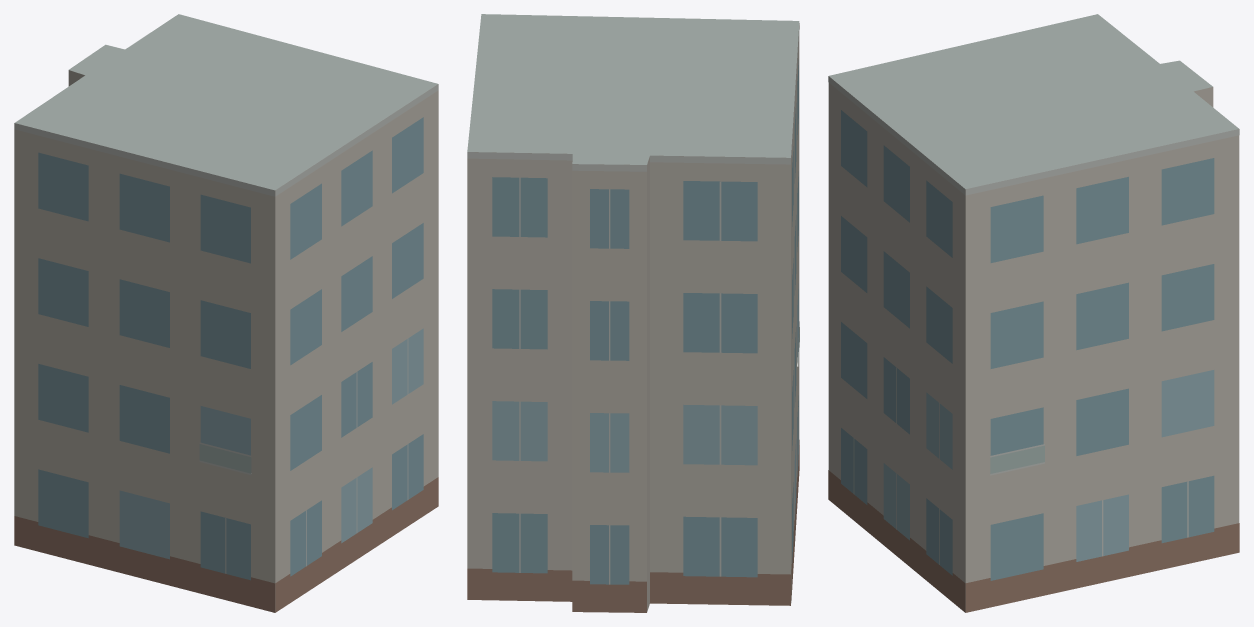
Rendered from survey-upis-32741618.glb.
3 views of the same model, side by side, from view 1: azimuth 30°, elevation 25°; view 2: azimuth 150°, elevation 25°; view 3: azimuth 270°, elevation 25° (orthographic). The views are drawn at different scales.
Parts seen in each view (by area): view 1: survey-upis-32741618.tmp; view 2: survey-upis-32741618.tmp; view 3: survey-upis-32741618.tmp.
Boxes of the visible parts, x1,y1,x2,y2 form: survey-upis-32741618.tmp: (14,14,438,612); survey-upis-32741618.tmp: (467,14,799,612); survey-upis-32741618.tmp: (828,14,1239,612).
Bounding box in the file's own units: 14.47 × 16.3 × 14.34.
